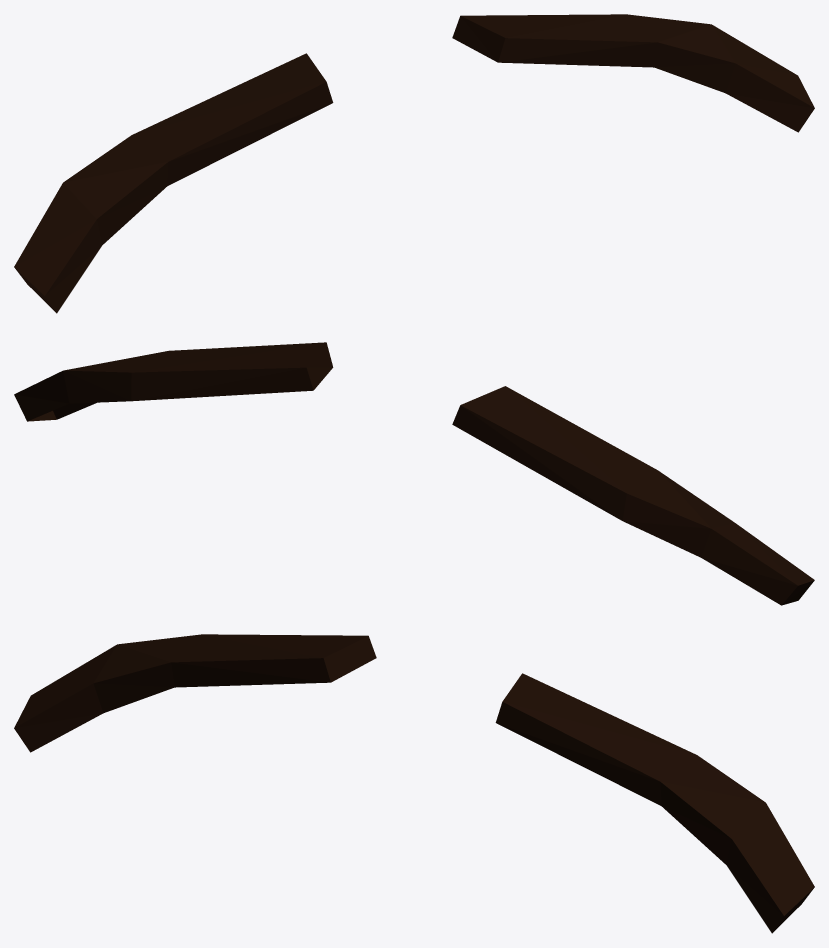
The model's file is Brow 06.FBX.
3 renders of one model, top to bottom at view 1: azimuth 30°, elevation 25°; view 2: azimuth 150°, elevation 25°; view 3: azimuth 330°, elevation 25°, orthographic.
Visible parts, largest first — view 1: Brow 06; view 2: Brow 06; view 3: Brow 06.
Boxes of the visible parts, bbox=[...] form: Brow 06: bbox=[14, 14, 814, 313]; Brow 06: bbox=[14, 342, 814, 605]; Brow 06: bbox=[14, 634, 814, 933].
Bounding box in the file's own units: 19.47 × 3.71 × 2.28.
